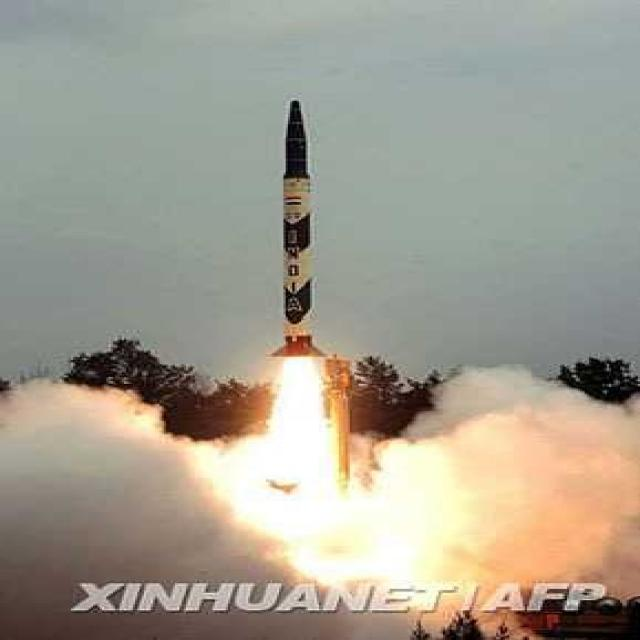missile: (274, 95, 332, 365)
